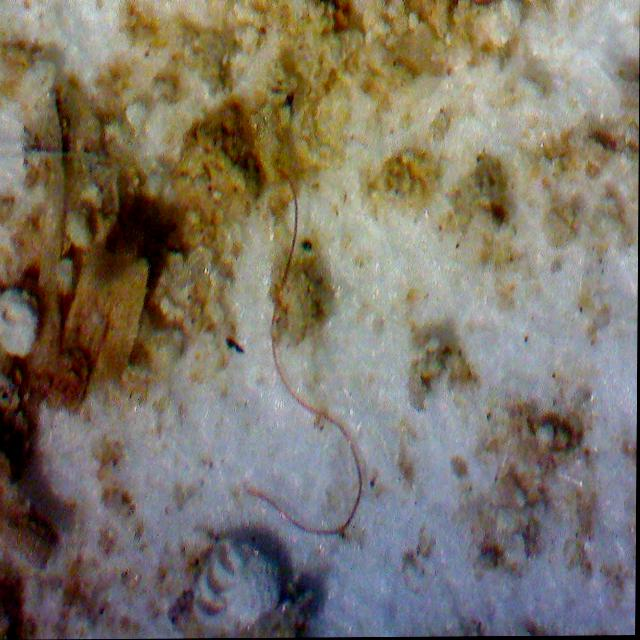microplastic: (247, 174, 364, 534)
